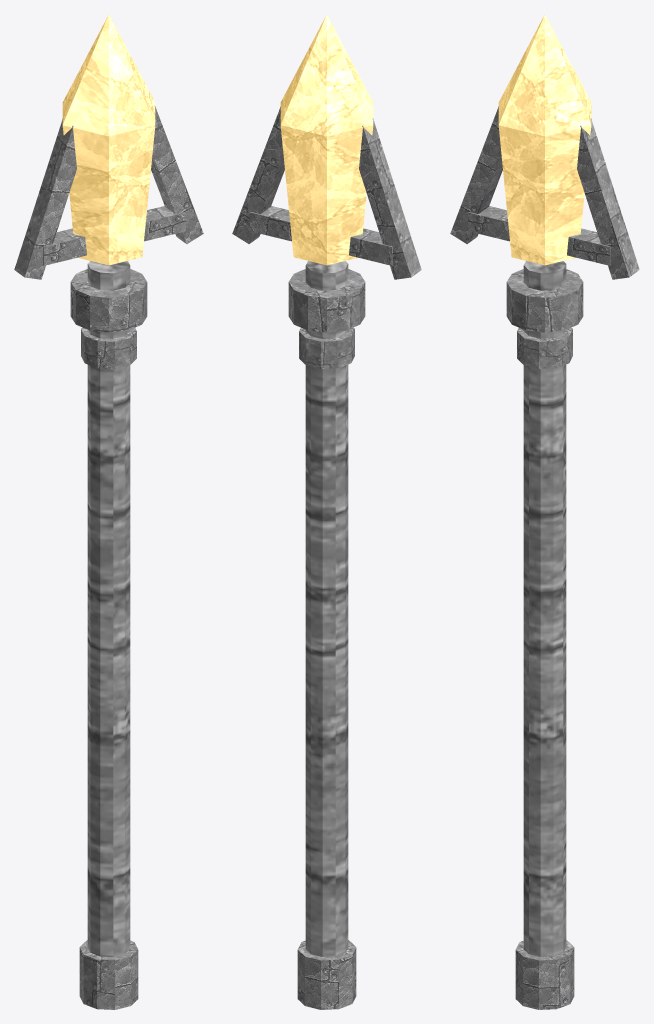
Rendered from Magenheim_Staff_Fire_Crystal.glb.
3 views of the same model, side by side, from view 1: azimuth 30°, elevation 25°; view 2: azimuth 150°, elevation 25°; view 3: azimuth 330°, elevation 25° (orthographic).
Visible parts, largest first — view 1: shaft, flame-focus, left-prong, neck-collar, pommel, right-prong, crossbar, neck-band; view 2: shaft, flame-focus, left-prong, neck-collar, pommel, right-prong, crossbar, neck-band; view 3: shaft, flame-focus, right-prong, neck-collar, pommel, left-prong, crossbar, neck-band.
Boxes of the visible parts, x1,y1,x2,y2 form: shaft: [87, 261, 130, 956]; flame-focus: [62, 14, 155, 265]; left-prong: [14, 118, 76, 279]; neck-collar: [70, 269, 147, 332]; pommel: [79, 940, 138, 1009]; right-prong: [151, 106, 203, 243]; crossbar: [43, 206, 185, 265]; neck-band: [81, 327, 136, 368]; shaft: [305, 261, 348, 956]; flame-focus: [280, 14, 373, 265]; left-prong: [359, 118, 421, 279]; neck-collar: [288, 269, 365, 332]; pommel: [297, 940, 356, 1009]; right-prong: [232, 106, 284, 243]; crossbar: [250, 206, 392, 265]; neck-band: [299, 327, 354, 368]; shaft: [523, 261, 566, 956]; flame-focus: [498, 14, 591, 265]; right-prong: [577, 118, 639, 279]; neck-collar: [506, 269, 583, 332]; pommel: [515, 940, 574, 1009]; left-prong: [450, 106, 502, 243]; crossbar: [468, 206, 610, 265]; neck-band: [517, 327, 572, 368].
Bounding box in the file's own units: 0.3783 × 1.99 × 0.1697.
3 materials, 3 textured.
